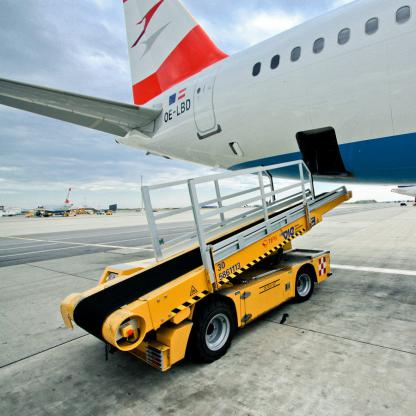baggagetruck: (54, 151, 353, 369)
